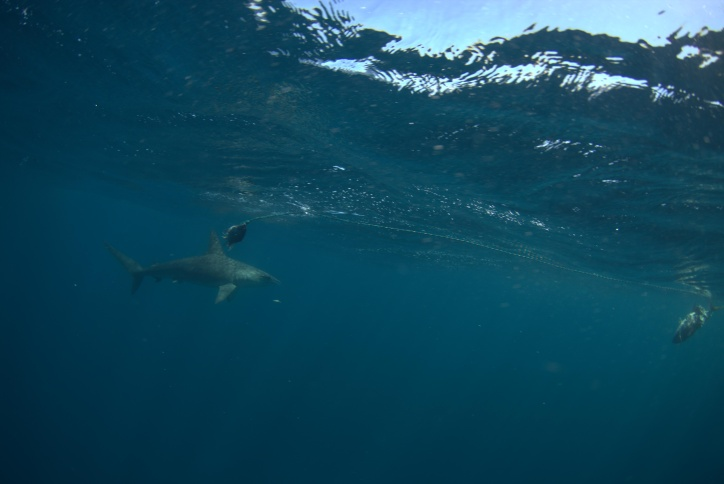Hammer: (88, 212, 281, 313)
